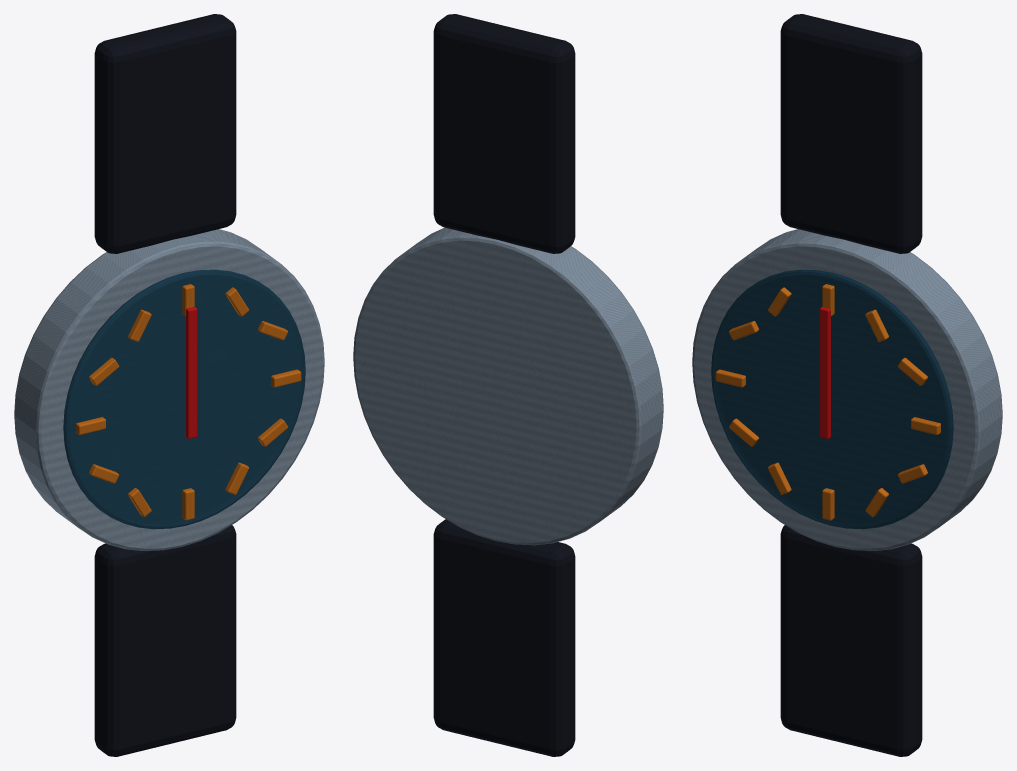
Rendered from montre-mecanique.glb.
3 renders of one model, left to right at view 1: azimuth 30°, elevation 25°; view 2: azimuth 150°, elevation 25°; view 3: azimuth 330°, elevation 25°, orthographic.
Parts seen in each view (by area): view 1: Cadran, Bracelet haut, Boitier, Bracelet bas, Aiguille; view 2: Boitier, Bracelet haut, Bracelet bas; view 3: Cadran, Bracelet haut, Boitier, Bracelet bas, Aiguille.
Boxes of the visible parts, x1,y1,x2,y2 form: Cadran: [63, 269, 305, 529]; Bracelet haut: [94, 14, 236, 253]; Boitier: [14, 229, 324, 550]; Bracelet bas: [94, 525, 236, 756]; Aiguille: [186, 307, 197, 438]; Boitier: [353, 227, 663, 545]; Bracelet haut: [433, 14, 575, 253]; Bracelet bas: [433, 519, 575, 756]; Cadran: [711, 269, 953, 529]; Bracelet haut: [780, 14, 922, 253]; Boitier: [692, 229, 1002, 550]; Bracelet bas: [780, 525, 922, 756]; Aiguille: [819, 307, 830, 438].
Bounding box in the file's own units: 2.1 × 4.94 × 0.468.
5 materials, 5 textured.
